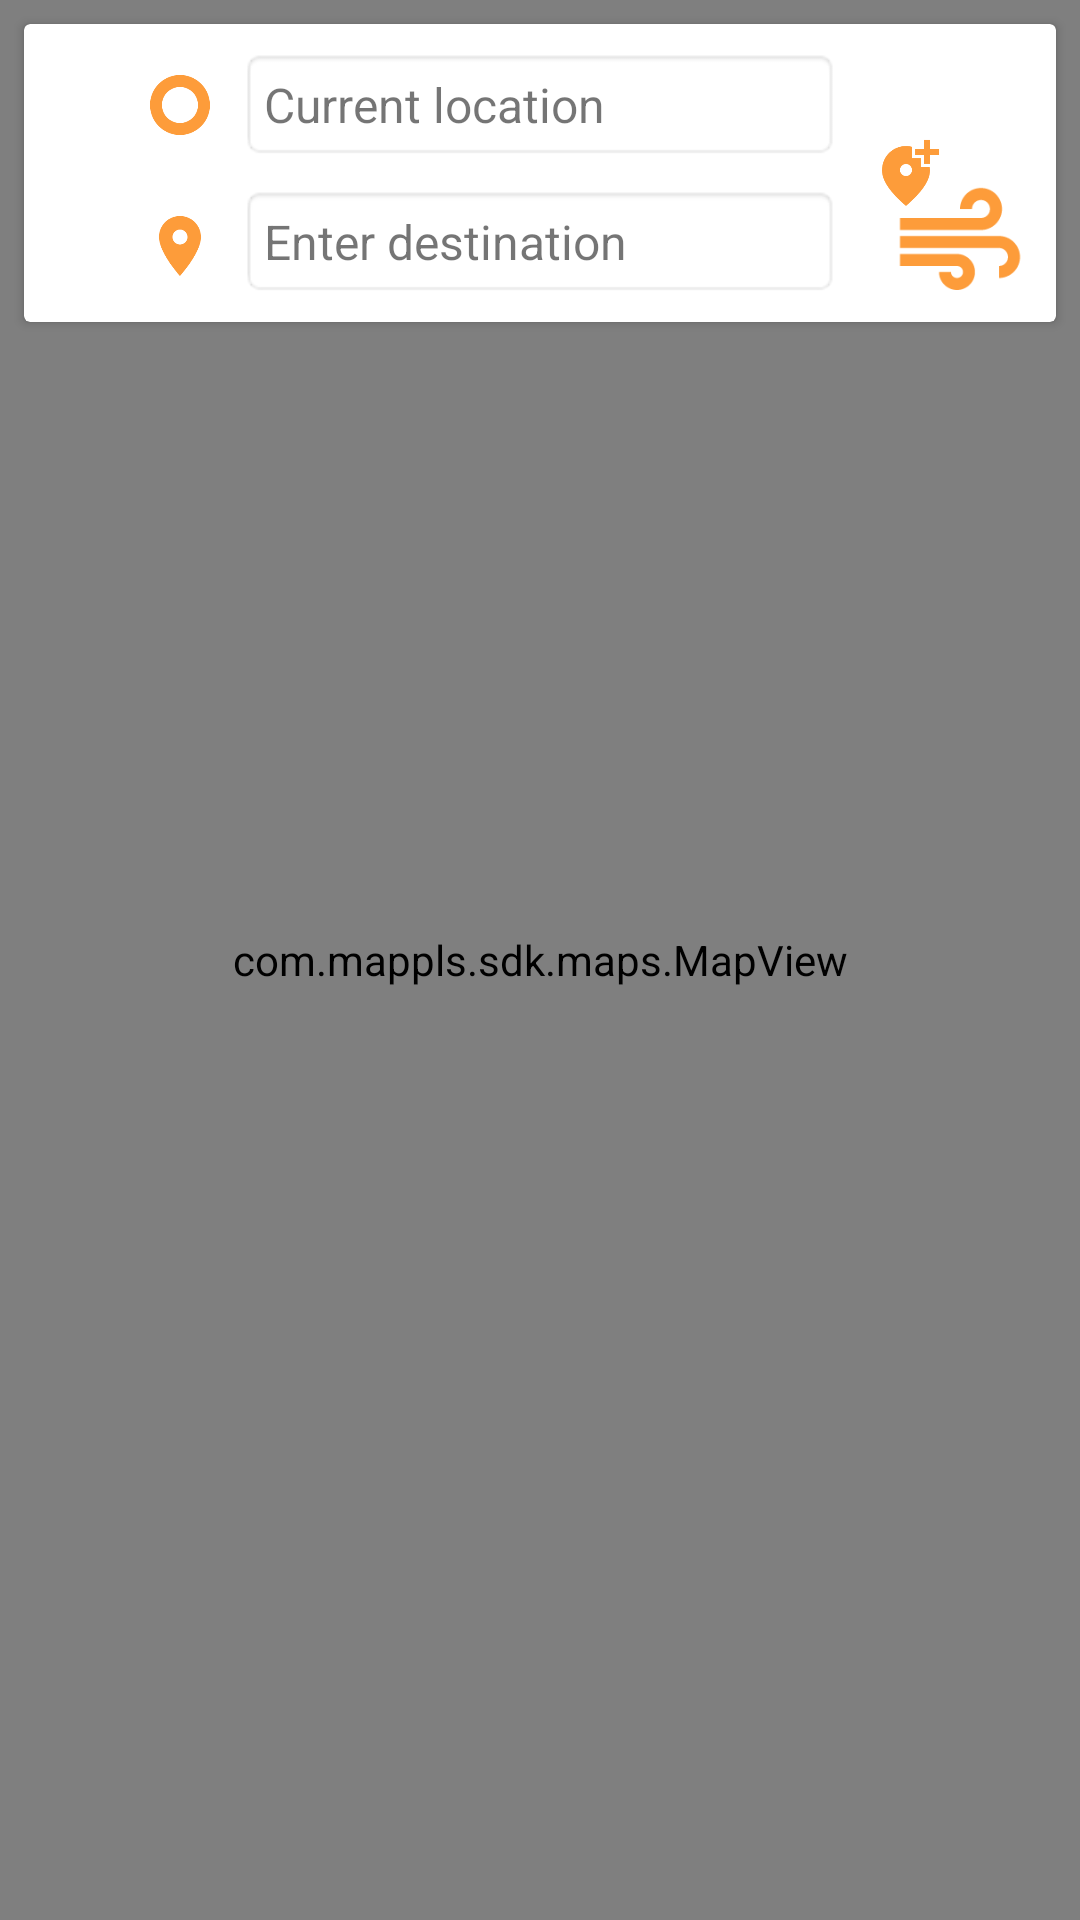

Screen size 1080×1920. Icon name, then its box in pixels as (x1, y1, x2, y2):
add location: (882, 140, 939, 206)
location marker: (159, 216, 201, 276)
trip origin: (150, 75, 210, 135)
